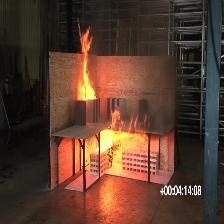fire: (84, 105, 153, 172), (61, 25, 110, 117)
